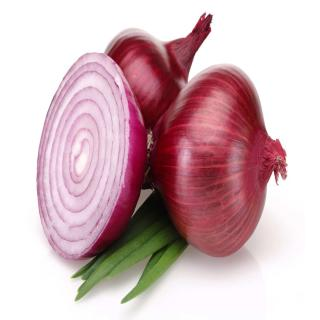Bawang Merah: (37, 12, 289, 306), (146, 63, 289, 259), (37, 52, 149, 261), (71, 190, 190, 305), (105, 12, 215, 131)
